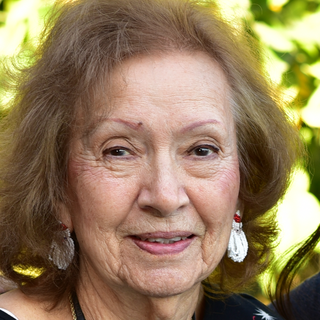eye: (96, 139, 142, 165), (181, 139, 225, 164)
